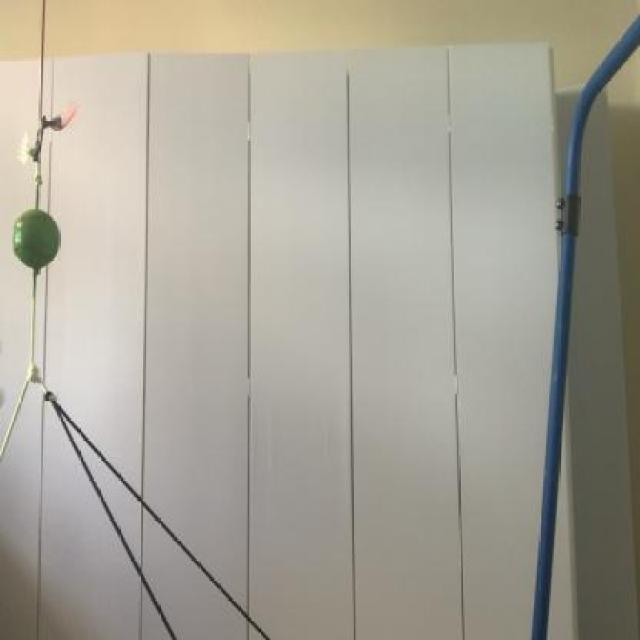baseball: (10, 208, 64, 272)
